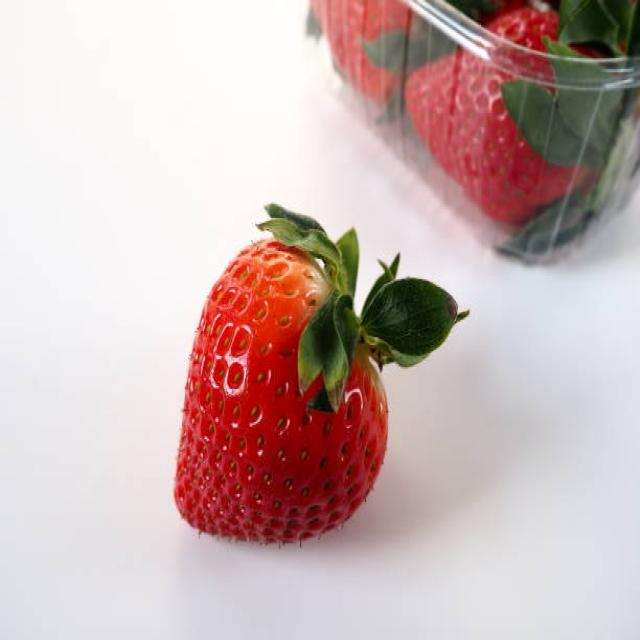Healthy Fruit: (174, 237, 389, 544)
